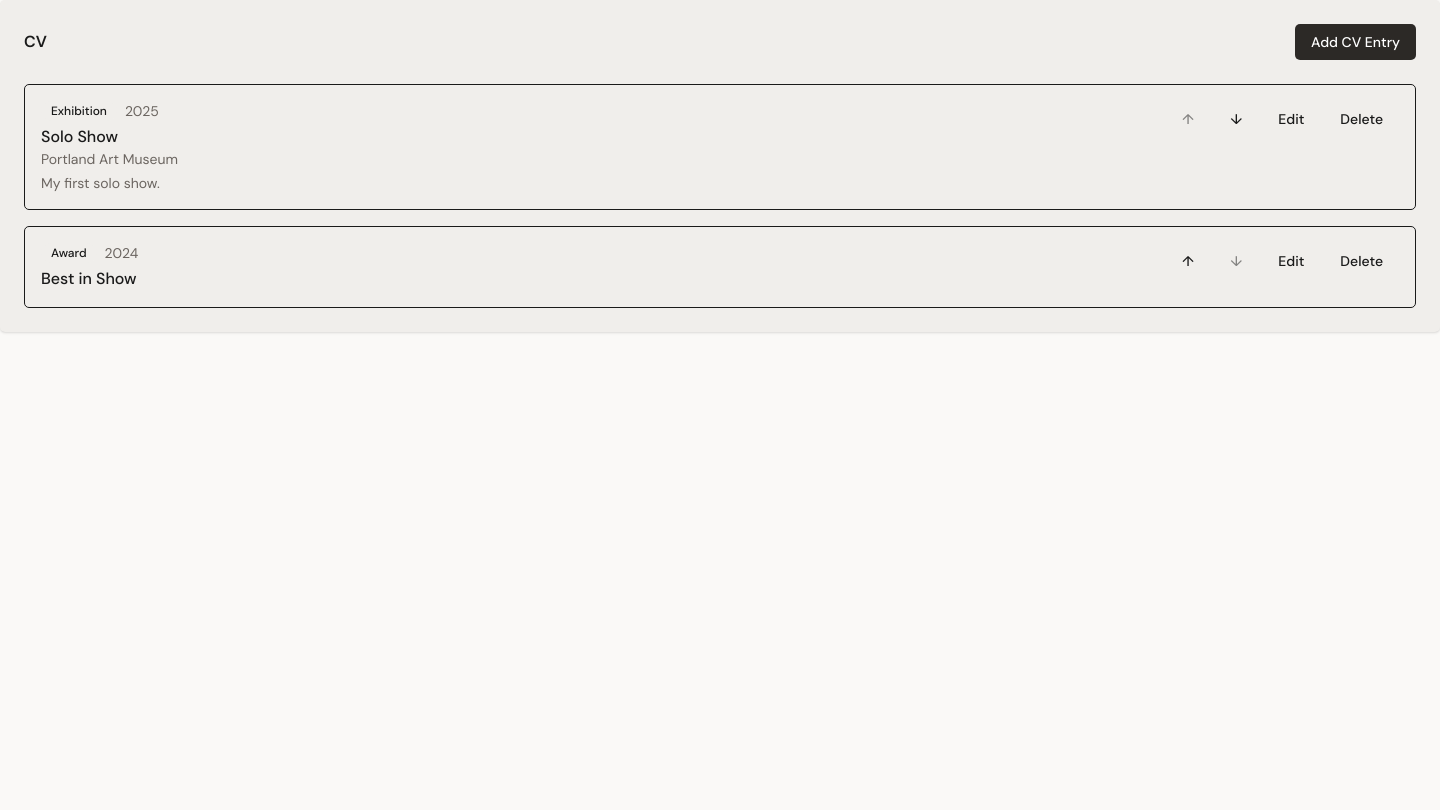
Test: CvEntryList › should open add form when Add CV Entry button is clicked
The width and height of the screenshot is (1440, 810).
Click the button with test id "cv-add-button" at (1356, 42), box [1295,24,1416,60]
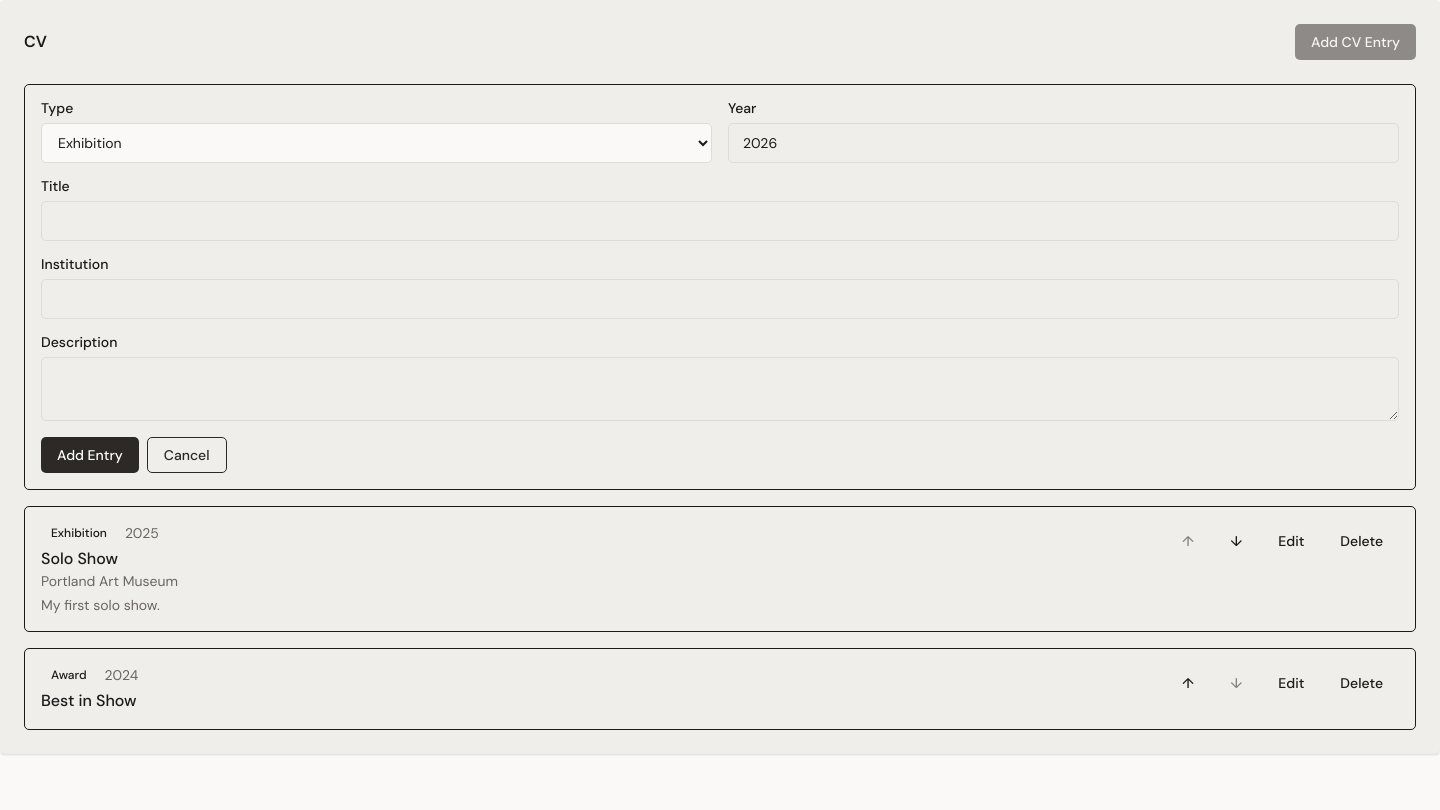
Now the form with test id "cv-entry-form" is shown, box [24,84,1416,490]
